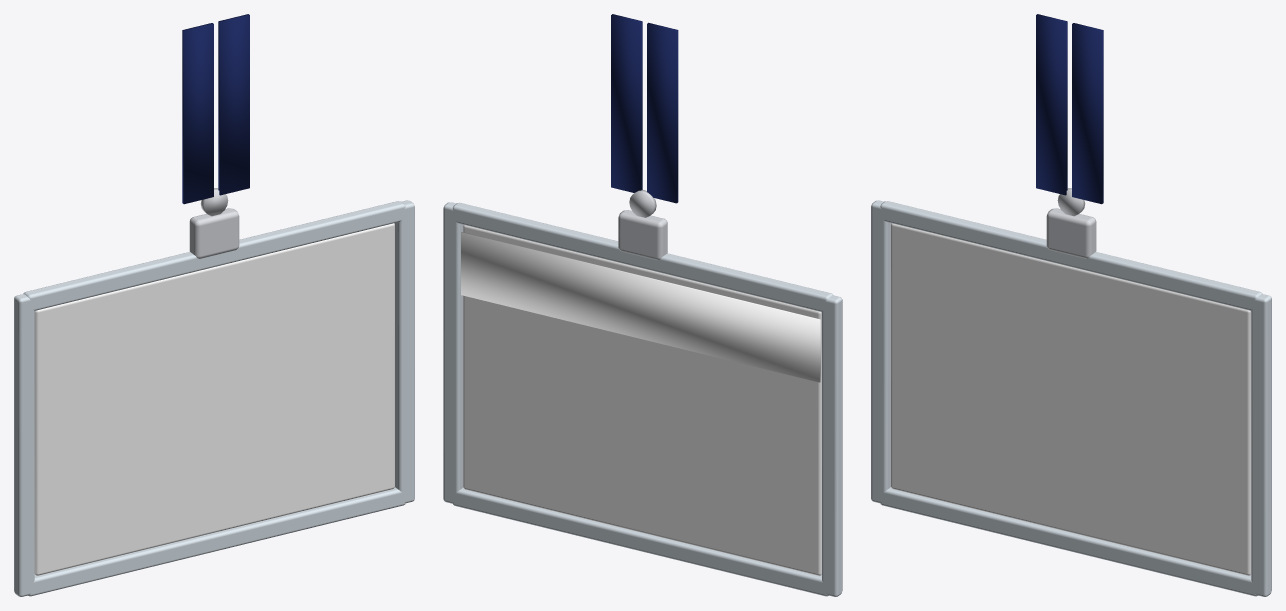
The model's file is Badge.fbx.
3 renders of one model, left to right at view 1: azimuth 30°, elevation 25°; view 2: azimuth 150°, elevation 25°; view 3: azimuth 330°, elevation 25°, orthographic.
Visible parts, largest first — view 1: Badge Card, Badge Holder; view 2: Badge Card, Badge Holder, Badge Stripe; view 3: Badge Card, Badge Holder.
Boxes of the visible parts, x1,y1,x2,y2 form: Badge Card: (34,223,394,575); Badge Holder: (14,14,414,596); Badge Card: (463,225,821,575); Badge Holder: (443,14,842,596); Badge Stripe: (461,232,820,382); Badge Card: (891,223,1251,575); Badge Holder: (871,14,1271,596).
Size of the model in its own units: 0.264 by 0.336 by 0.01.
